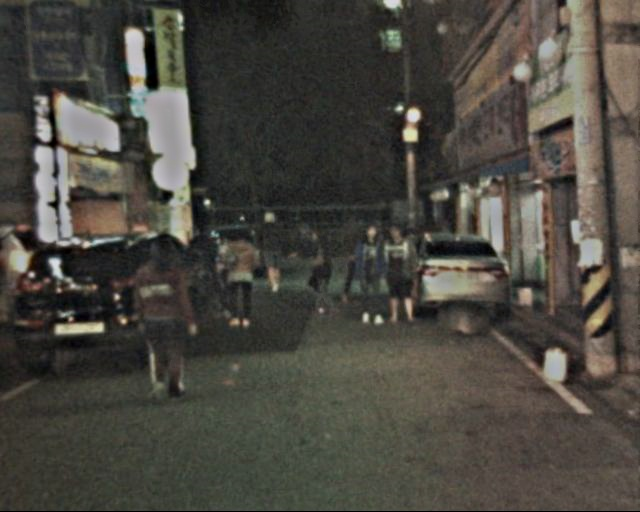person: (132, 234, 201, 396), (374, 220, 421, 322), (346, 227, 394, 326), (217, 225, 258, 322), (331, 210, 375, 300), (186, 223, 226, 310), (297, 221, 335, 311), (251, 209, 287, 293)
